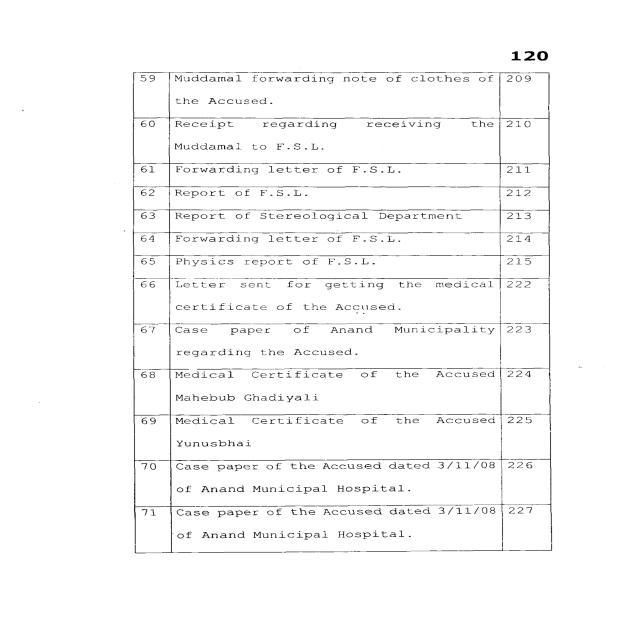page-number: (420, 1, 640, 68)
